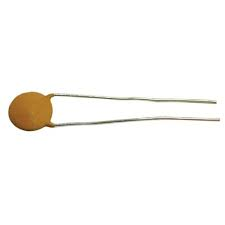ceramic capacitor: (2, 59, 104, 160)
